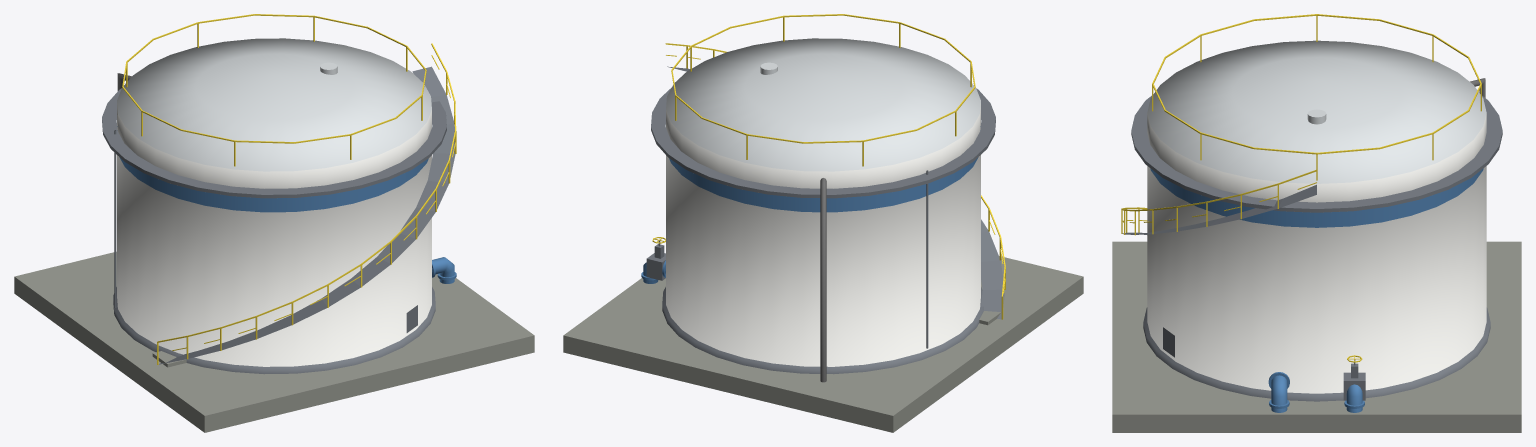
Rendered from mashup-tank-top-prebuilt_close.fbx.
3 views of the same model, side by side, from view 1: azimuth 30°, elevation 25°; view 2: azimuth 150°, elevation 25°; view 3: azimuth 270°, elevation 25° (orthographic). The views are drawn at different scales.
Visible parts, largest first — view 1: a1074/0/mashup-tank-top-prebuilt_close; view 2: a1074/0/mashup-tank-top-prebuilt_close; view 3: a1074/0/mashup-tank-top-prebuilt_close.
Boxes of the visible parts, box(x1,y1,x2,y2) form: a1074/0/mashup-tank-top-prebuilt_close: box(14, 14, 534, 432); a1074/0/mashup-tank-top-prebuilt_close: box(563, 14, 1083, 432); a1074/0/mashup-tank-top-prebuilt_close: box(1112, 14, 1521, 432).
Size of the model in its own units: 15.2 by 10.9 by 15.2.
